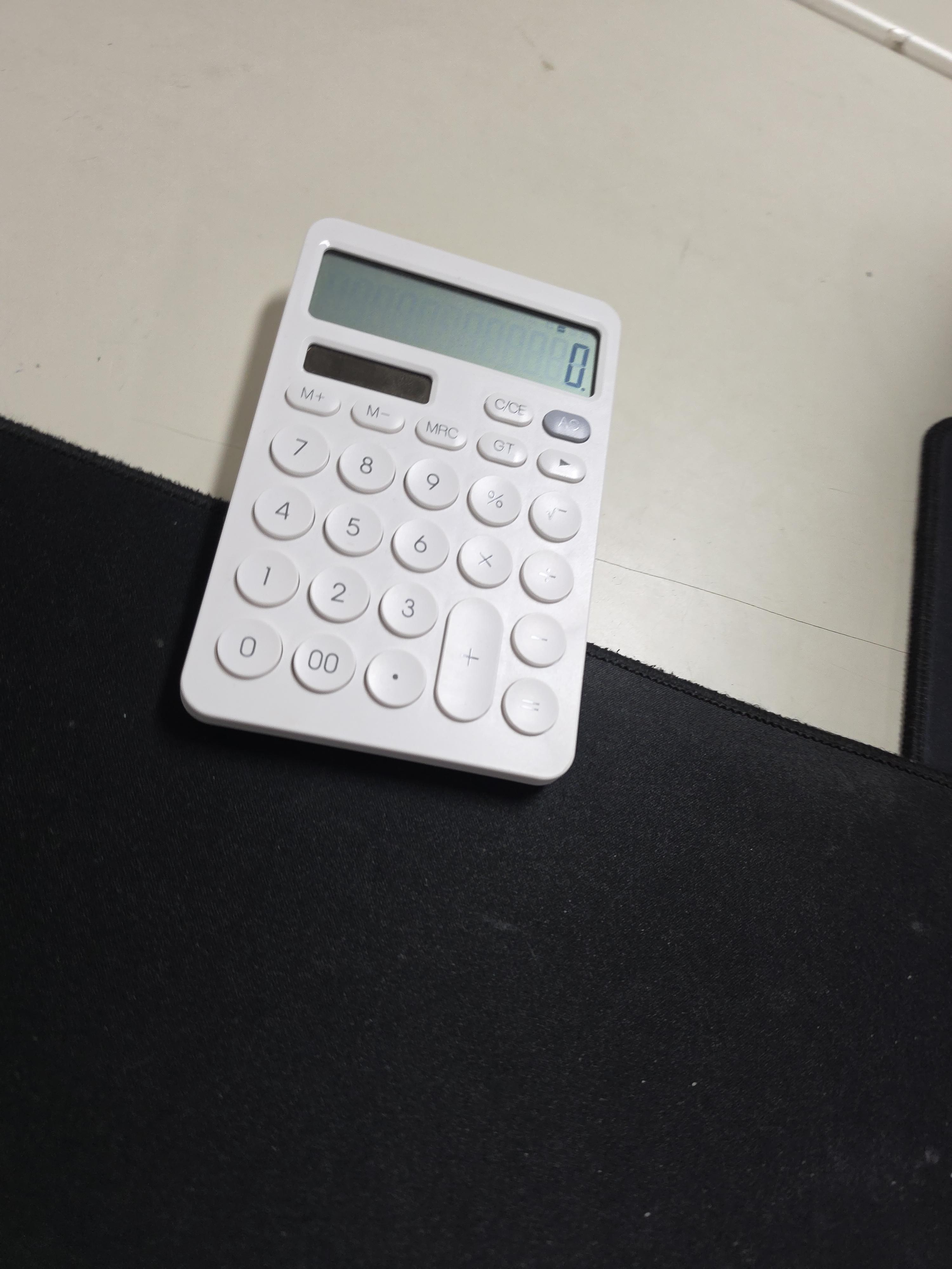calculator: (179, 216, 624, 785)
